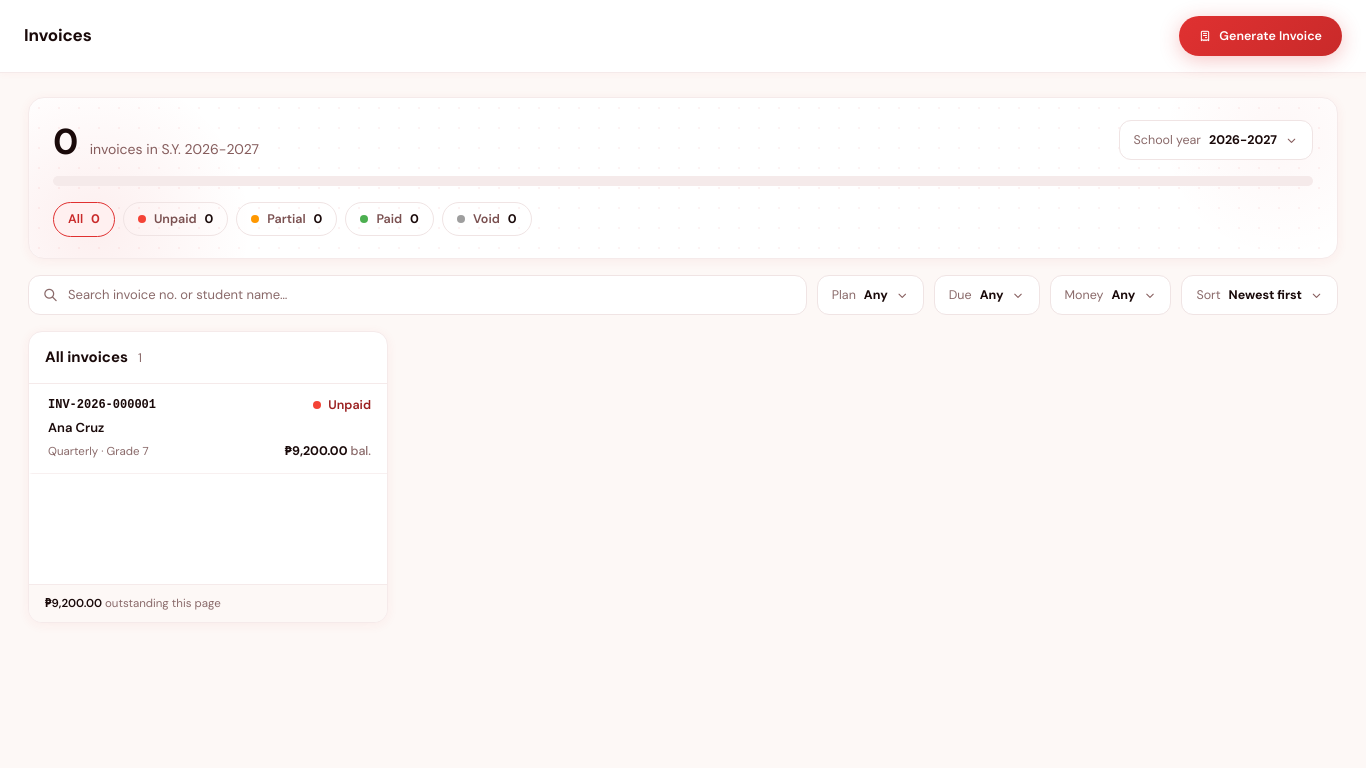
Test: Invoices — band › filters by status from the legend, without recounting the band
Check: the text "INV-2026-000001" is shown, box [48,396,156,414]
Step 1. Click the button with aria-label "Unpaid 97" → x=176, y=219, box [123,202,228,236]
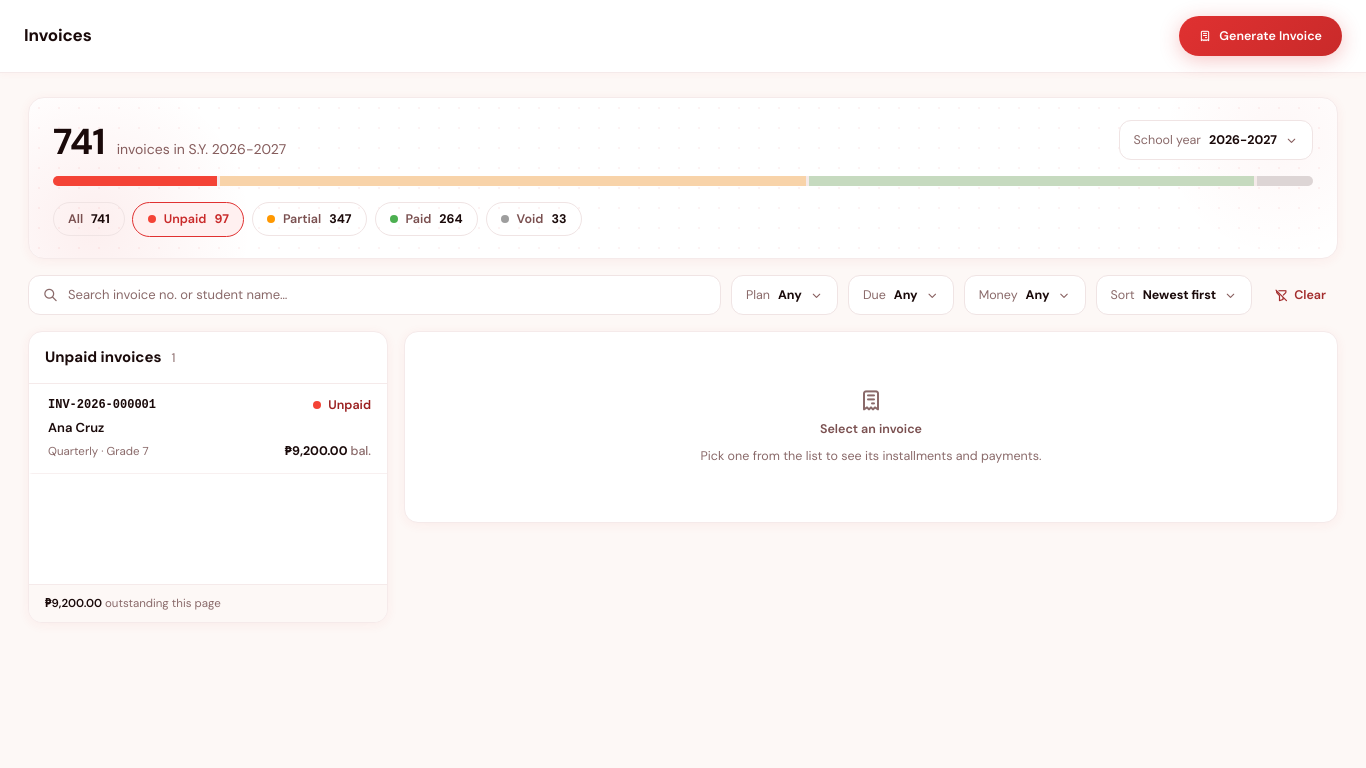
Check: the heading "Unpaid invoices" is shown, box [45,346,161,368]
